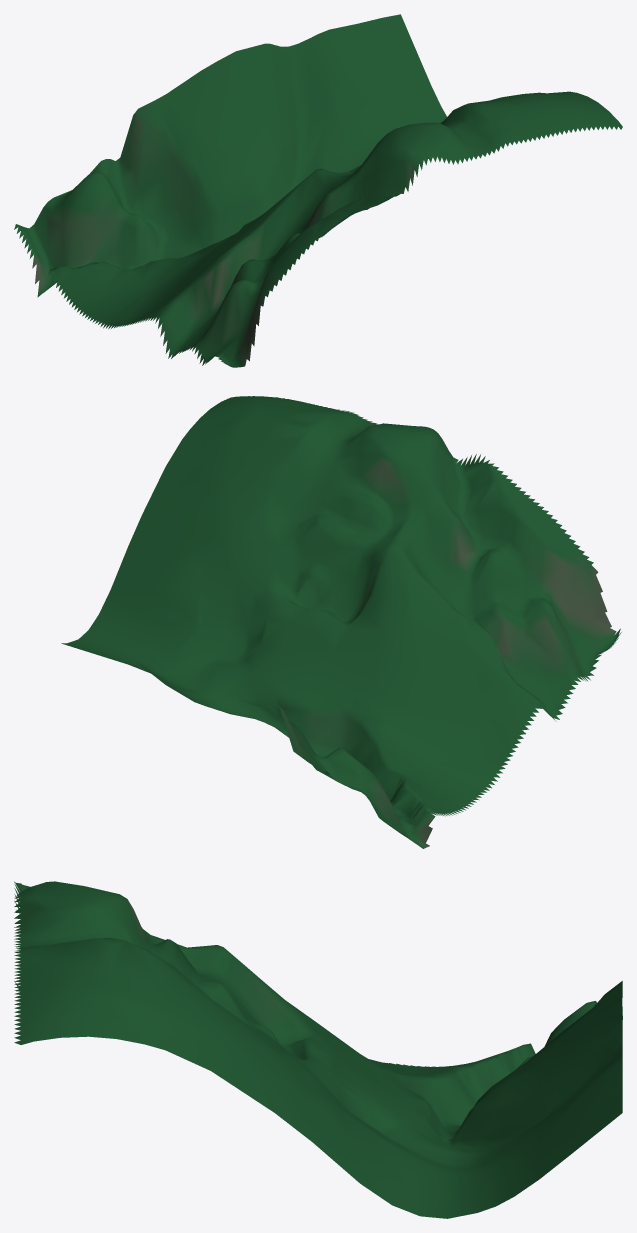
File: payo_land_xm2_y1_lod2.glb
The picture shows the model from 3 angles, top to bottom: view 1: azimuth 30°, elevation 25°; view 2: azimuth 150°, elevation 25°; view 3: azimuth 270°, elevation 25°; orthographic projection. The views are drawn at different scales.
Parts seen in each view (by area): view 1: payo_land_xm2_y1; view 2: payo_land_xm2_y1; view 3: payo_land_xm2_y1.
Boxes of the visible parts, x1,y1,x2,y2 form: payo_land_xm2_y1: (14, 14, 622, 367); payo_land_xm2_y1: (61, 396, 621, 848); payo_land_xm2_y1: (14, 881, 622, 1218).
Size of the model in its own units: 258 by 154 by 258.
